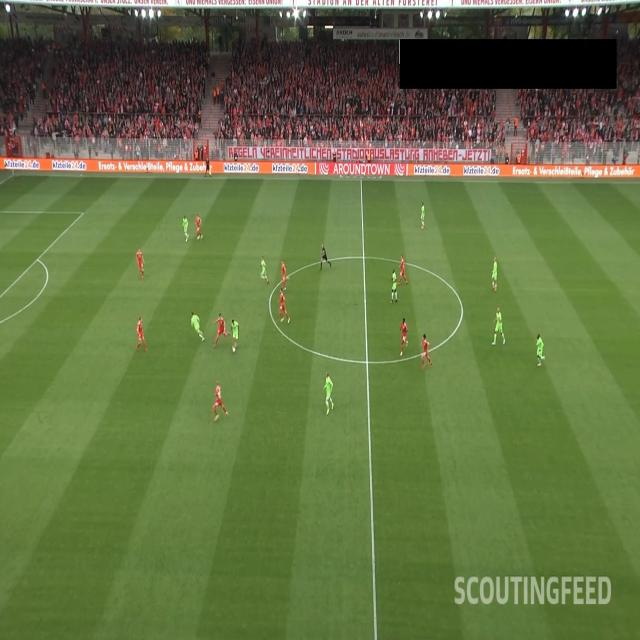ball: (232, 346, 236, 354)
